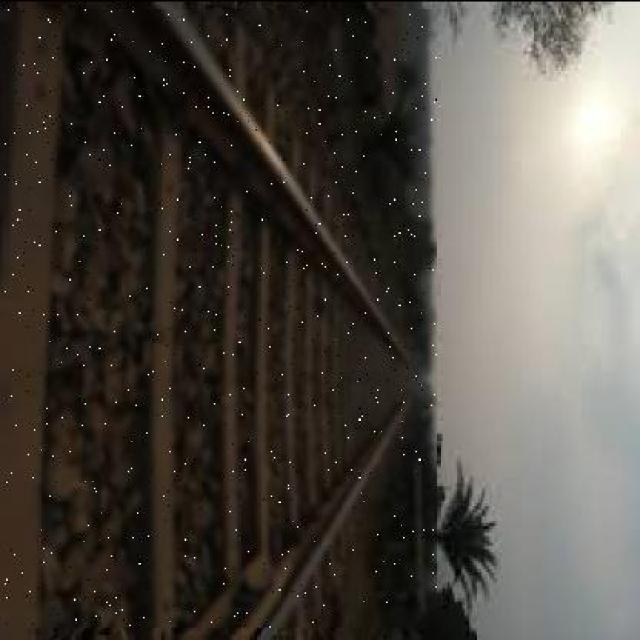rail: (5, 8, 436, 626)
